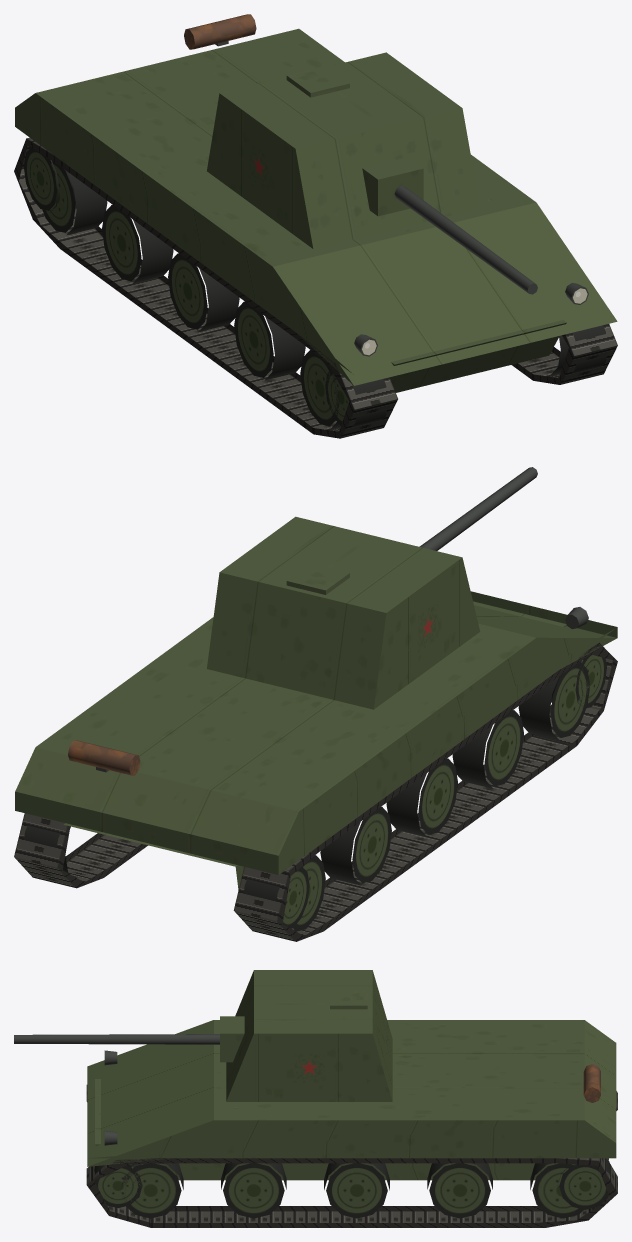
File: armor-2.glb
3 renders of one model, top to bottom at view 1: azimuth 30°, elevation 25°; view 2: azimuth 150°, elevation 25°; view 3: azimuth 270°, elevation 25°, orthographic. The views are drawn at different scales.
Parts seen in each view (by area): view 1: hull, turret, tracks_right, gun, galet_right_3, galet_right_4, galet_right_2, tracks_left, galet_right_1, galet_right_5, barbotin_right, roue_folle_right (+2 smaller); view 2: hull, turret, tracks_right, tracks_left, galet_right_4, galet_right_3, galet_right_2, galet_right_5, gun, barbotin_right, hatch, galet_right_1 (+1 smaller); view 3: hull, turret, tracks_left, gun, galet_left_2, galet_left_3, galet_left_4, galet_left_5, barbotin_left, galet_left_1, roue_folle_left, hatch.
Boxes of the visible parts, x1,y1,x2,y2 form: hull: (15, 14, 617, 392); turret: (207, 52, 480, 248); tracks_right: (14, 137, 397, 438); gun: (362, 157, 537, 294); galet_right_3: (168, 253, 239, 331); galet_right_4: (234, 301, 305, 380); galet_right_2: (102, 205, 173, 283); tracks_left: (512, 324, 617, 384); galet_right_1: (42, 159, 107, 235); galet_right_5: (300, 350, 340, 428); barbotin_right: (23, 148, 75, 212); roue_folle_right: (325, 370, 386, 427); hull: (15, 591, 617, 890); turret: (207, 516, 480, 709); tracks_right: (233, 642, 617, 941); tracks_left: (14, 813, 147, 888); galet_right_4: (452, 710, 523, 788); galet_right_3: (386, 758, 457, 837); galet_right_2: (320, 806, 391, 885); galet_right_5: (518, 661, 590, 740); gun: (419, 467, 537, 550); barbotin_right: (243, 866, 309, 928); hatch: (286, 563, 349, 594); galet_right_1: (293, 855, 325, 931); hull: (87, 1020, 616, 1180); turret: (226, 970, 392, 1101); tracks_left: (86, 1158, 617, 1227); gun: (14, 1016, 244, 1062); galet_left_2: (427, 1163, 492, 1218); galet_left_3: (324, 1163, 389, 1218); galet_left_4: (221, 1163, 286, 1218); galet_left_5: (121, 1163, 183, 1218); barbotin_left: (557, 1158, 610, 1209); galet_left_1: (530, 1163, 583, 1218); roue_folle_left: (94, 1164, 142, 1207); hatch: (330, 990, 367, 1009).
Bounding box in the file's own units: 3 × 2.5 × 7.63.
5 materials, 5 textured.
